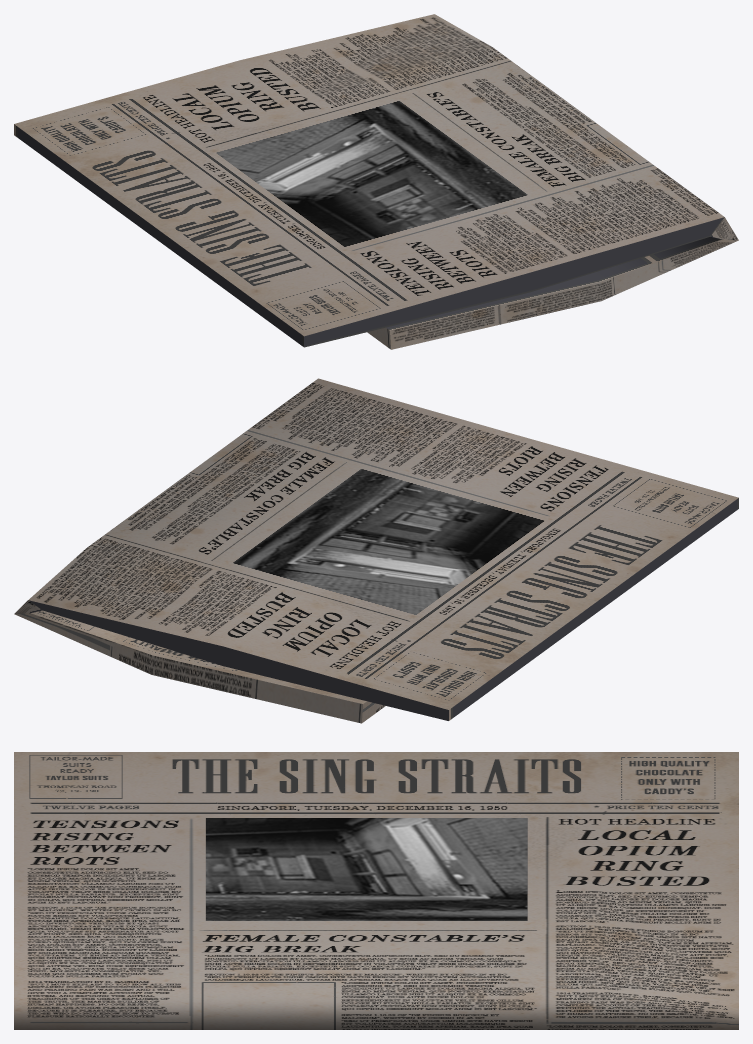
The model's file is Newspaper.FBX.
3 renders of one model, top to bottom at view 1: azimuth 30°, elevation 25°; view 2: azimuth 150°, elevation 25°; view 3: azimuth 270°, elevation 25°, orthographic. The views are drawn at different scales.
Visible parts, largest first — view 1: Box139; view 2: Box139; view 3: Box139.
Boxes of the visible parts, bbox=[...] form: Box139: bbox=[14, 14, 738, 349]; Box139: bbox=[14, 378, 738, 723]; Box139: bbox=[14, 752, 738, 1029].
Size of the model in its own units: 9.06 by 1.07 by 10.47.
Materials: 1 (1 with a texture image).
